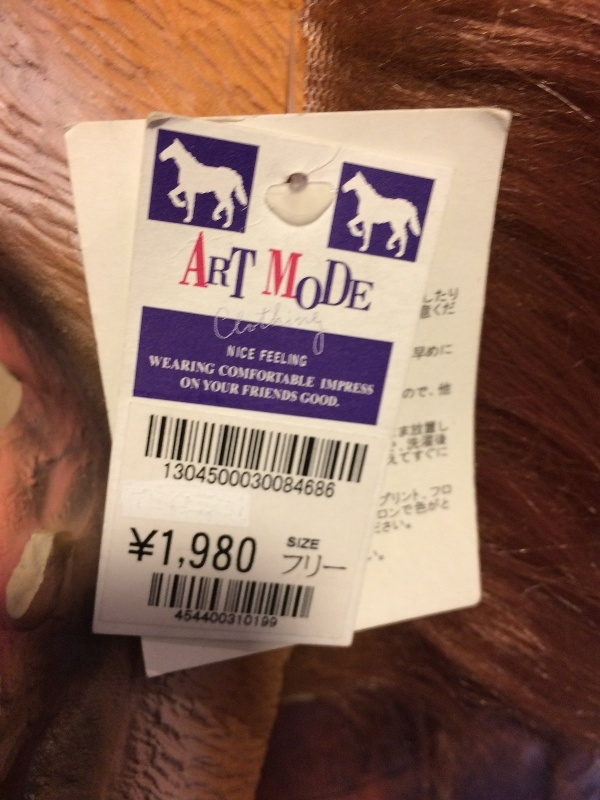text: (273, 248, 288, 325), (289, 248, 304, 325), (305, 248, 320, 325), (321, 248, 336, 325), (337, 248, 352, 325), (353, 248, 368, 325), (209, 231, 224, 304), (225, 231, 240, 304), (241, 231, 256, 304), (145, 526, 160, 578), (161, 526, 176, 578), (177, 526, 192, 578), (193, 526, 208, 578), (209, 526, 224, 578), (225, 526, 240, 578), (241, 526, 256, 578), (130, 526, 144, 578), (369, 248, 378, 325), (177, 461, 192, 502), (193, 461, 208, 502), (209, 461, 224, 502), (225, 461, 240, 502), (241, 461, 256, 502), (257, 461, 272, 502), (273, 461, 288, 502), (289, 461, 304, 502), (305, 461, 320, 502), (321, 461, 336, 502), (289, 552, 304, 587), (305, 552, 320, 587), (321, 552, 336, 587), (201, 231, 208, 304), (433, 287, 448, 321), (164, 461, 176, 502), (337, 552, 351, 587), (449, 287, 461, 321), (225, 364, 240, 390), (241, 364, 256, 390), (257, 364, 272, 390), (273, 364, 288, 390), (289, 364, 304, 390), (161, 355, 176, 378), (177, 355, 192, 378), (193, 355, 208, 378), (385, 499, 400, 522), (401, 499, 416, 522), (417, 499, 432, 522), (433, 499, 448, 522), (177, 608, 192, 630), (193, 608, 208, 630), (209, 608, 224, 630), (225, 608, 240, 630), (241, 608, 256, 630), (257, 608, 272, 630), (385, 485, 400, 507), (401, 485, 416, 507), (417, 485, 432, 507), (433, 485, 448, 507), (433, 447, 449, 467), (268, 248, 272, 325), (433, 421, 449, 440), (401, 447, 416, 467), (417, 447, 432, 467), (305, 364, 316, 390), (273, 349, 288, 368), (289, 349, 304, 368), (321, 378, 336, 397), (337, 378, 352, 397), (353, 378, 368, 397), (257, 386, 272, 405), (273, 386, 288, 405), (417, 344, 432, 363), (433, 344, 448, 363), (417, 382, 432, 401), (433, 382, 448, 401), (401, 421, 416, 440), (417, 421, 432, 440), (401, 435, 416, 454), (417, 435, 432, 454), (385, 518, 400, 536), (433, 435, 447, 454), (305, 391, 320, 408), (321, 391, 336, 408), (149, 355, 160, 378), (243, 386, 256, 405), (209, 380, 224, 396), (289, 536, 304, 552), (305, 536, 320, 552), (401, 518, 414, 536), (241, 346, 256, 361), (225, 380, 239, 396), (261, 349, 272, 368), (426, 287, 432, 321), (390, 447, 400, 467), (289, 386, 299, 405), (406, 382, 416, 401), (371, 551, 384, 565), (283, 552, 288, 587), (229, 346, 240, 361), (209, 355, 216, 378), (181, 377, 192, 391), (376, 518, 384, 536), (378, 499, 384, 522), (393, 435, 400, 454), (219, 364, 224, 390), (369, 378, 375, 397), (273, 608, 278, 630), (193, 377, 200, 391), (449, 344, 454, 363), (449, 485, 453, 507), (203, 380, 208, 396), (305, 349, 309, 368), (257, 231, 258, 304), (449, 382, 452, 401), (397, 421, 400, 440), (257, 526, 258, 578), (301, 391, 304, 408), (449, 499, 451, 522), (337, 391, 339, 408), (383, 485, 384, 507), (287, 536, 288, 552)
